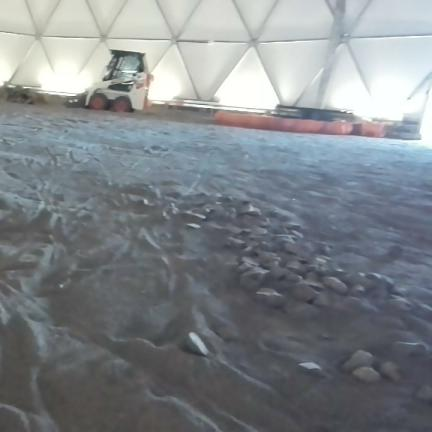Rock: (342, 350, 373, 371), (240, 267, 268, 289), (255, 288, 284, 307), (392, 342, 428, 357), (186, 332, 208, 356), (292, 283, 317, 301), (352, 367, 380, 383), (323, 277, 348, 294), (365, 273, 394, 287), (380, 362, 400, 381), (299, 362, 326, 376), (239, 202, 261, 217), (258, 251, 280, 265), (269, 266, 289, 280), (287, 261, 305, 275), (226, 225, 250, 235), (417, 386, 431, 403), (226, 237, 246, 248), (238, 262, 256, 273), (285, 271, 301, 283), (260, 261, 279, 270), (309, 257, 326, 267), (240, 257, 258, 266), (250, 227, 268, 236), (286, 222, 301, 230), (187, 224, 200, 229)
